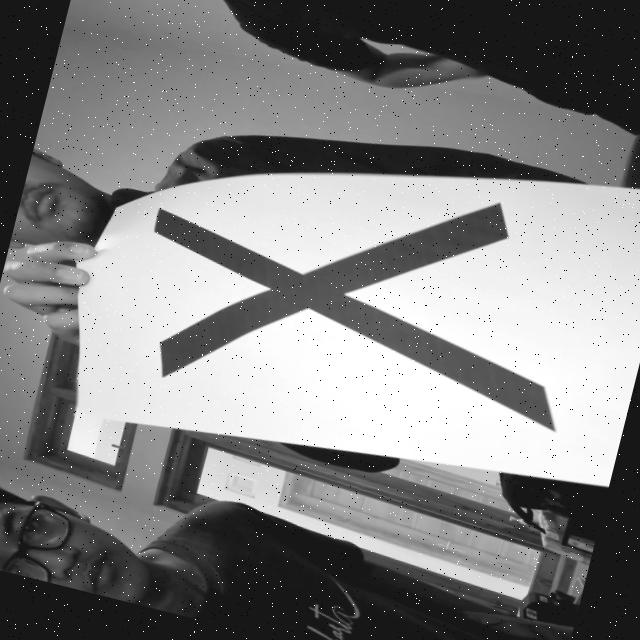x: (50, 67, 622, 499)
